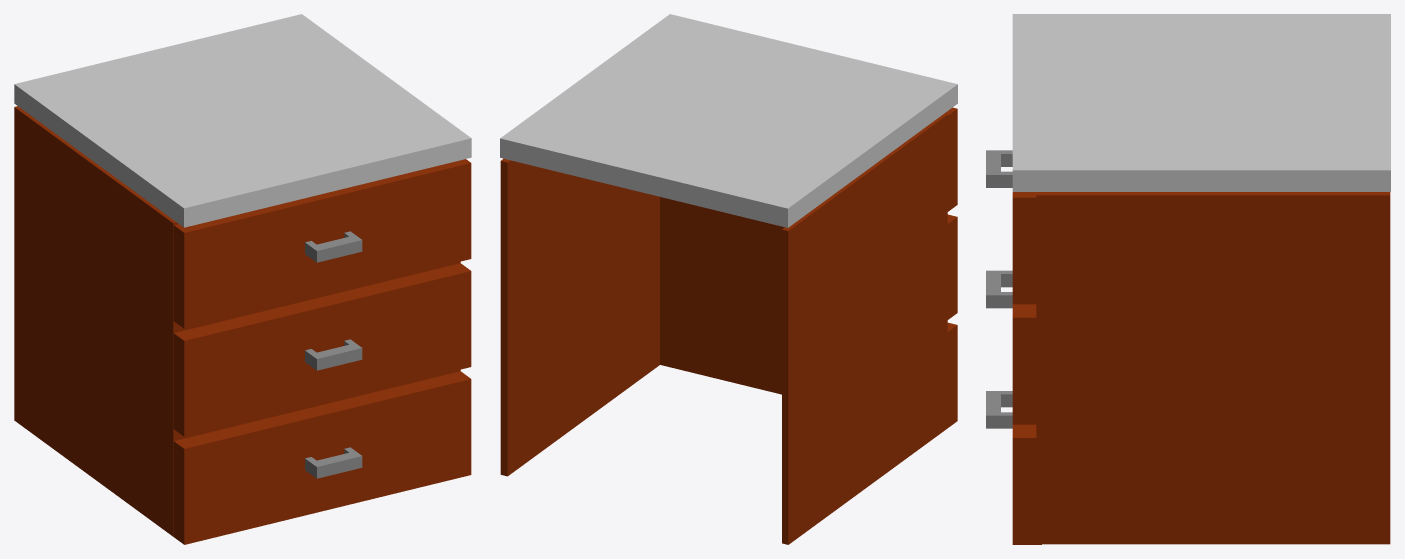
The model's file is cassetti_cucina_45x60_Scene.obj.
The picture shows the model from 3 angles, left to right: view 1: azimuth 30°, elevation 25°; view 2: azimuth 150°, elevation 25°; view 3: azimuth 270°, elevation 25°; orthographic projection. The views are drawn at different scales.
Visible parts, largest first — view 1: Cube.002_Cube.002_WoodCherry, Cube_Cube.003_Material.002, Cube.002_Cube.002_Aluminum; view 2: Cube.002_Cube.002_WoodCherry, Cube_Cube.003_Material.002; view 3: Cube.002_Cube.002_WoodCherry, Cube_Cube.003_Material.002, Cube.002_Cube.002_Aluminum.
Boxes of the visible parts, left/top/right/bottom form: Cube.002_Cube.002_WoodCherry: left=14, top=106, right=471, bottom=544; Cube_Cube.003_Material.002: left=14, top=14, right=471, bottom=227; Cube.002_Cube.002_Aluminum: left=305, top=231, right=362, bottom=478; Cube.002_Cube.002_WoodCherry: left=500, top=107, right=957, bottom=544; Cube_Cube.003_Material.002: left=500, top=14, right=957, bottom=227; Cube.002_Cube.002_WoodCherry: left=1012, top=192, right=1390, bottom=544; Cube_Cube.003_Material.002: left=1012, top=14, right=1390, bottom=191; Cube.002_Cube.002_Aluminum: left=986, top=150, right=1012, bottom=428.
Size of the model in its own units: 2.51 by 2.8 by 2.74.
